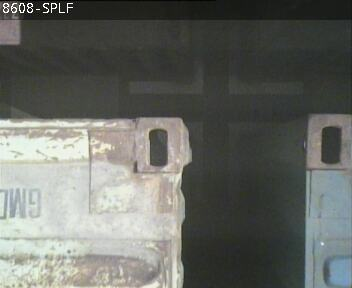groundmarker_1: (128, 25, 305, 94)
